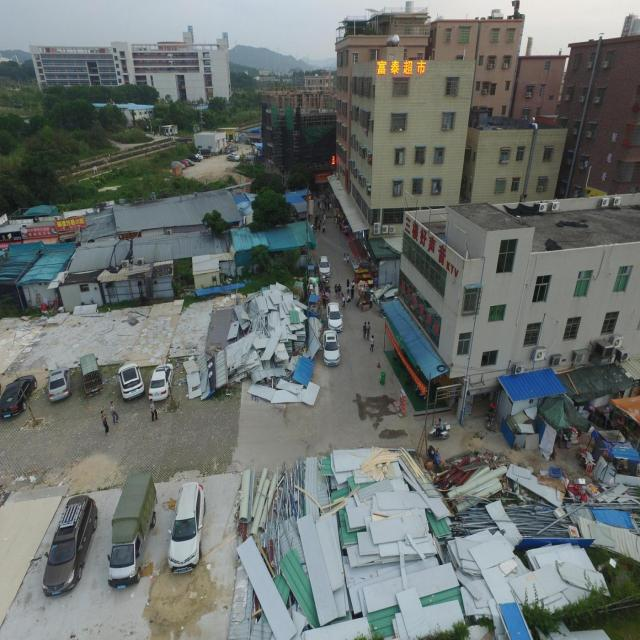car: (42, 494, 98, 596), (168, 481, 205, 573), (0, 374, 37, 420), (148, 363, 174, 402), (118, 363, 144, 401), (48, 368, 72, 402)
person: (100, 409, 108, 434), (149, 398, 157, 422), (110, 401, 118, 424)
tree: (250, 186, 291, 230), (201, 208, 230, 238)
